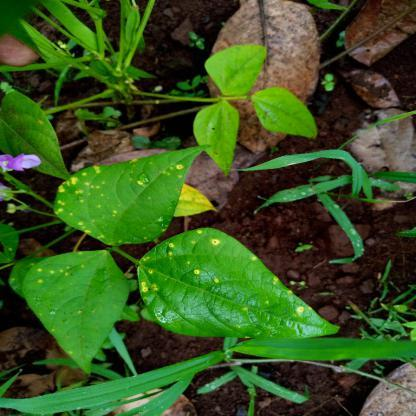Beans_Rust: (137, 230, 338, 336), (53, 145, 214, 247), (25, 250, 127, 373)
